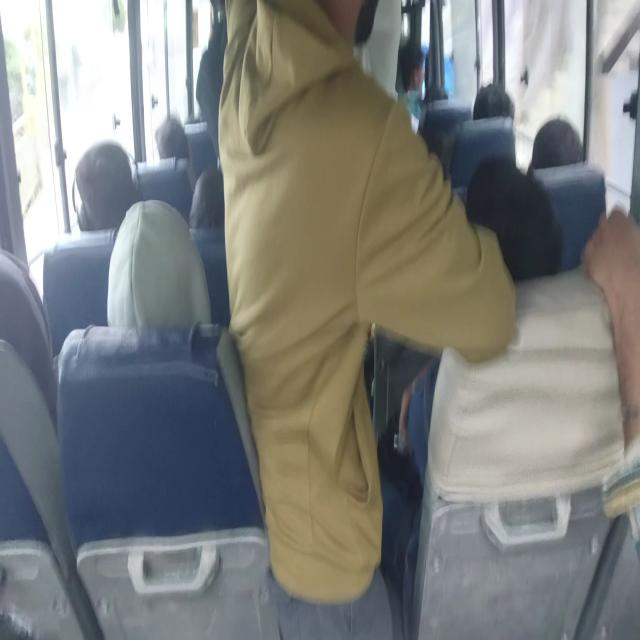person: (222, 0, 413, 483), (469, 158, 564, 276), (115, 219, 208, 338), (0, 275, 55, 430), (345, 0, 403, 97), (74, 144, 136, 233), (410, 109, 462, 181), (186, 165, 232, 242), (153, 114, 201, 176), (532, 116, 590, 165), (400, 31, 428, 93), (475, 75, 513, 118)
